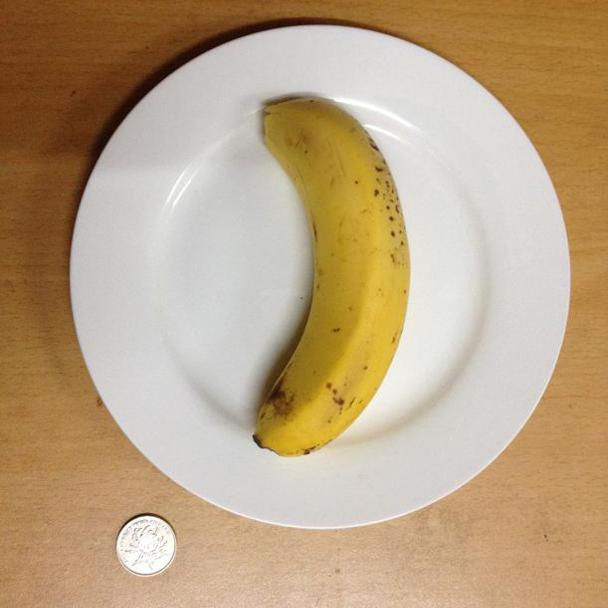banana: (238, 86, 416, 464)
